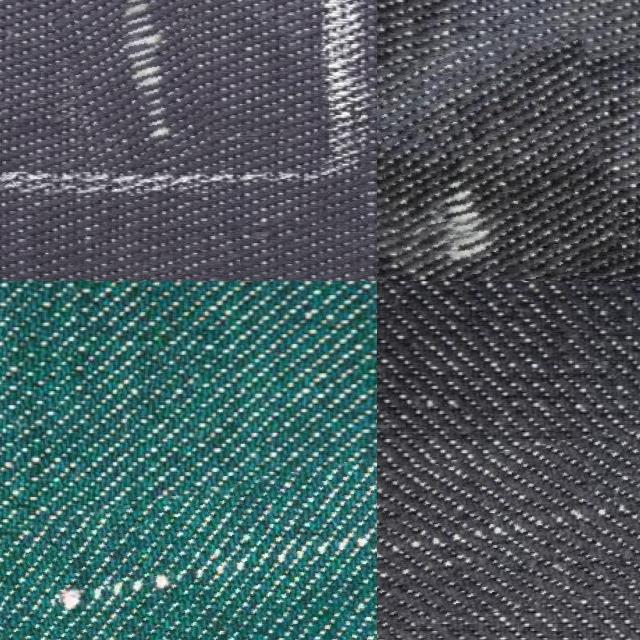Thread_other: (0, 472, 377, 640), (377, 39, 613, 281), (377, 415, 640, 630), (55, 0, 201, 167)
